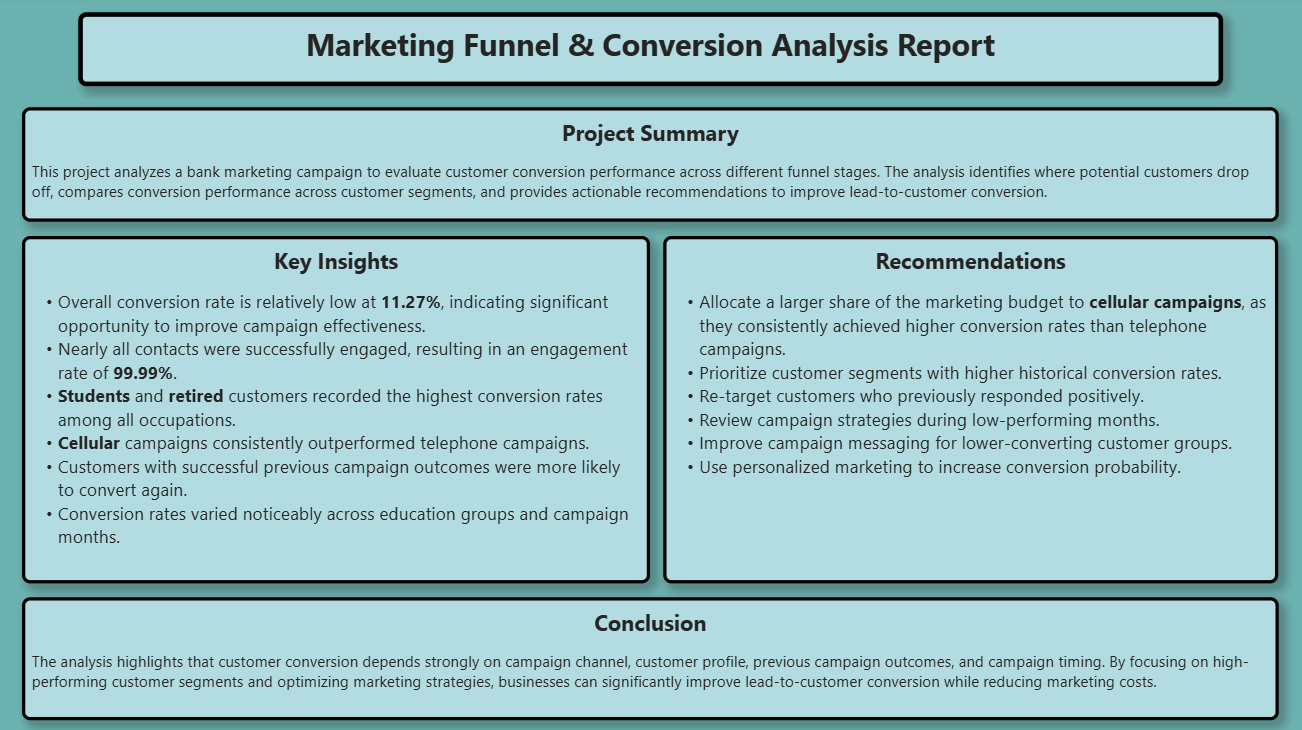

The dashboard page shown, as its layout file describes it:
{"tool":"powerbi","page":{"name":"Marketing Funnel & Conversion Analysis Report","canvas":[1600,900],"ordinal":1},"visuals":[{"type":"textbox","box":[100,20,1400,90],"z":0},{"type":"textbox","box":[30,136.7,1536.7,140],"z":1},{"type":"textbox","box":[30,293.3,768.3,425],"z":2},{"type":"textbox","box":[815,293.3,751.7,425],"z":3},{"type":"textbox","box":[30,735,1536.7,150],"z":4}]}

Visuals, with their boxes in screenshot pixels (x1, y1, x2, y2), scaled from the page's 1600x900 canvas onto the 1302x730 screenshot:
textbox: x1=81 y1=16 x2=1221 y2=89
textbox: x1=24 y1=111 x2=1275 y2=224
textbox: x1=24 y1=238 x2=650 y2=583
textbox: x1=663 y1=238 x2=1275 y2=583
textbox: x1=24 y1=596 x2=1275 y2=718
